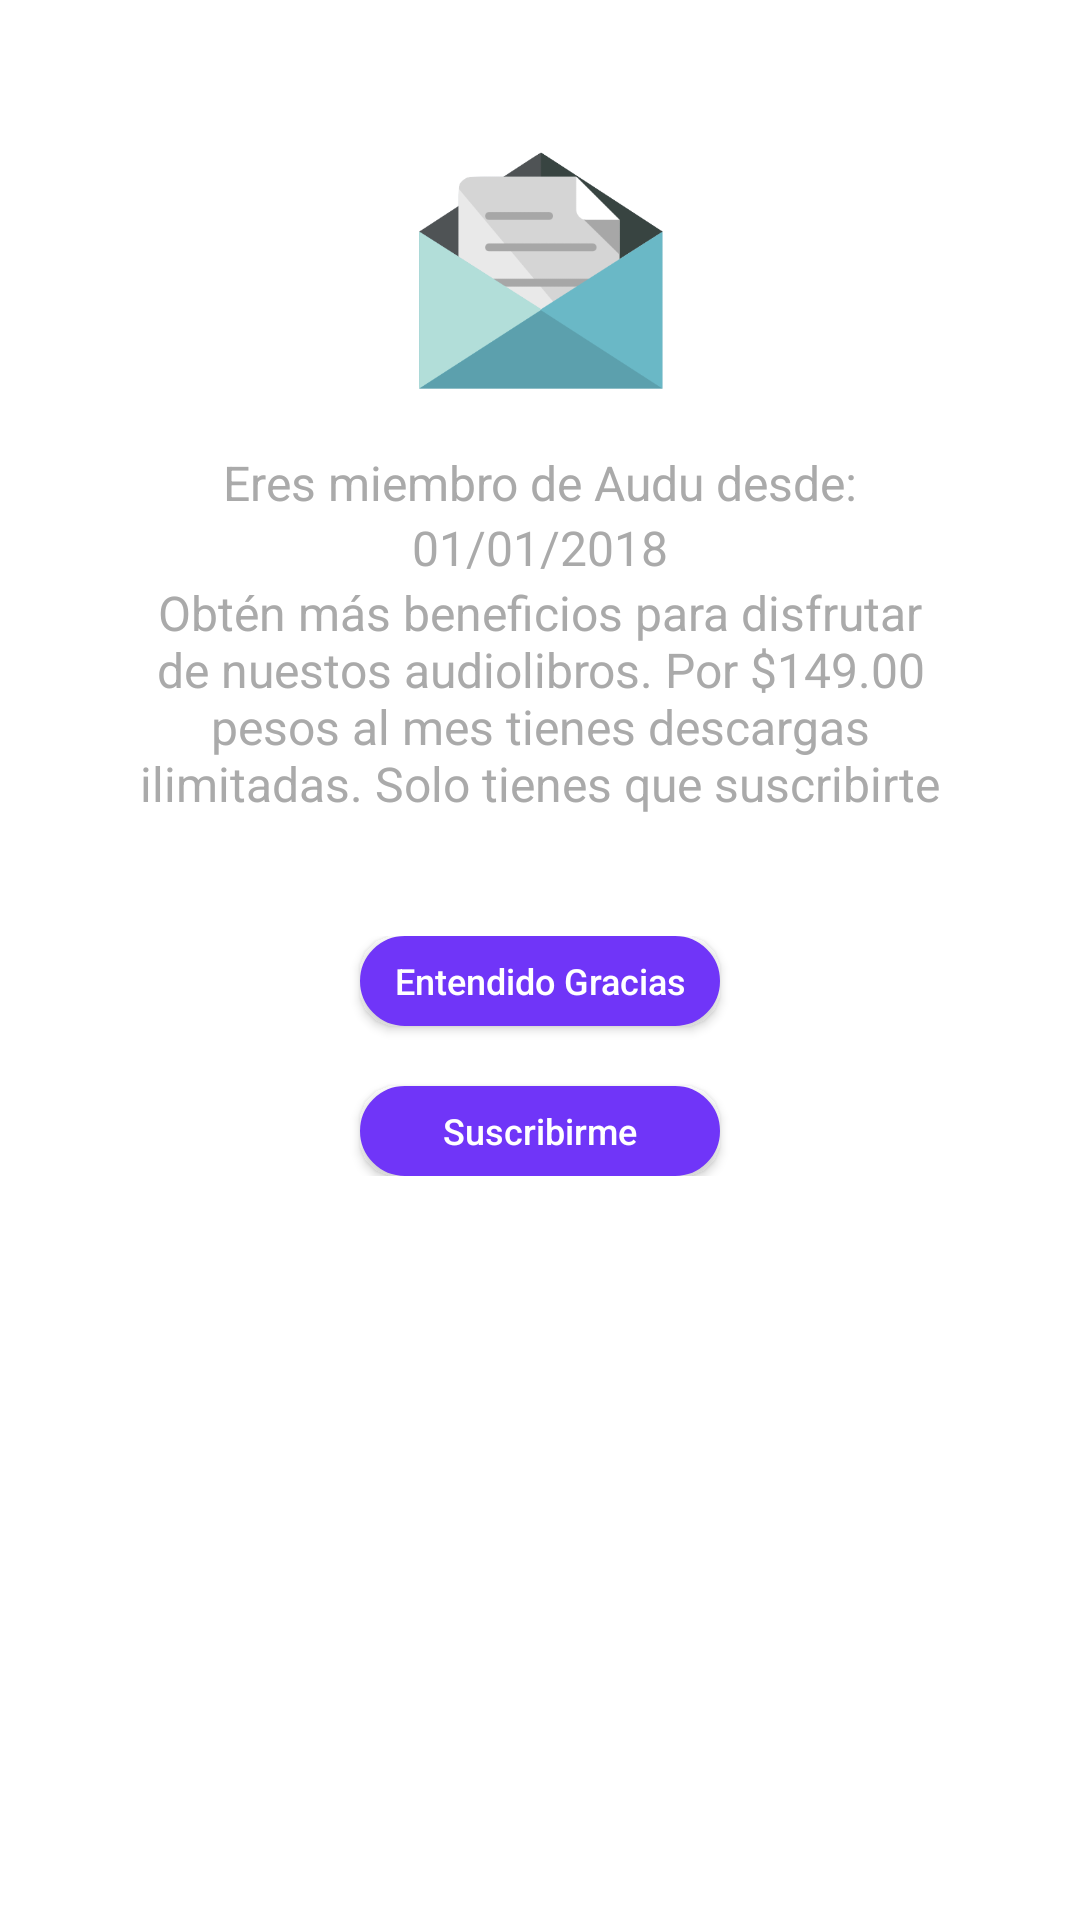

Named icons in this screenshot (1080x1920) and their centers, (x,y):
susenvelope: (541,270)
